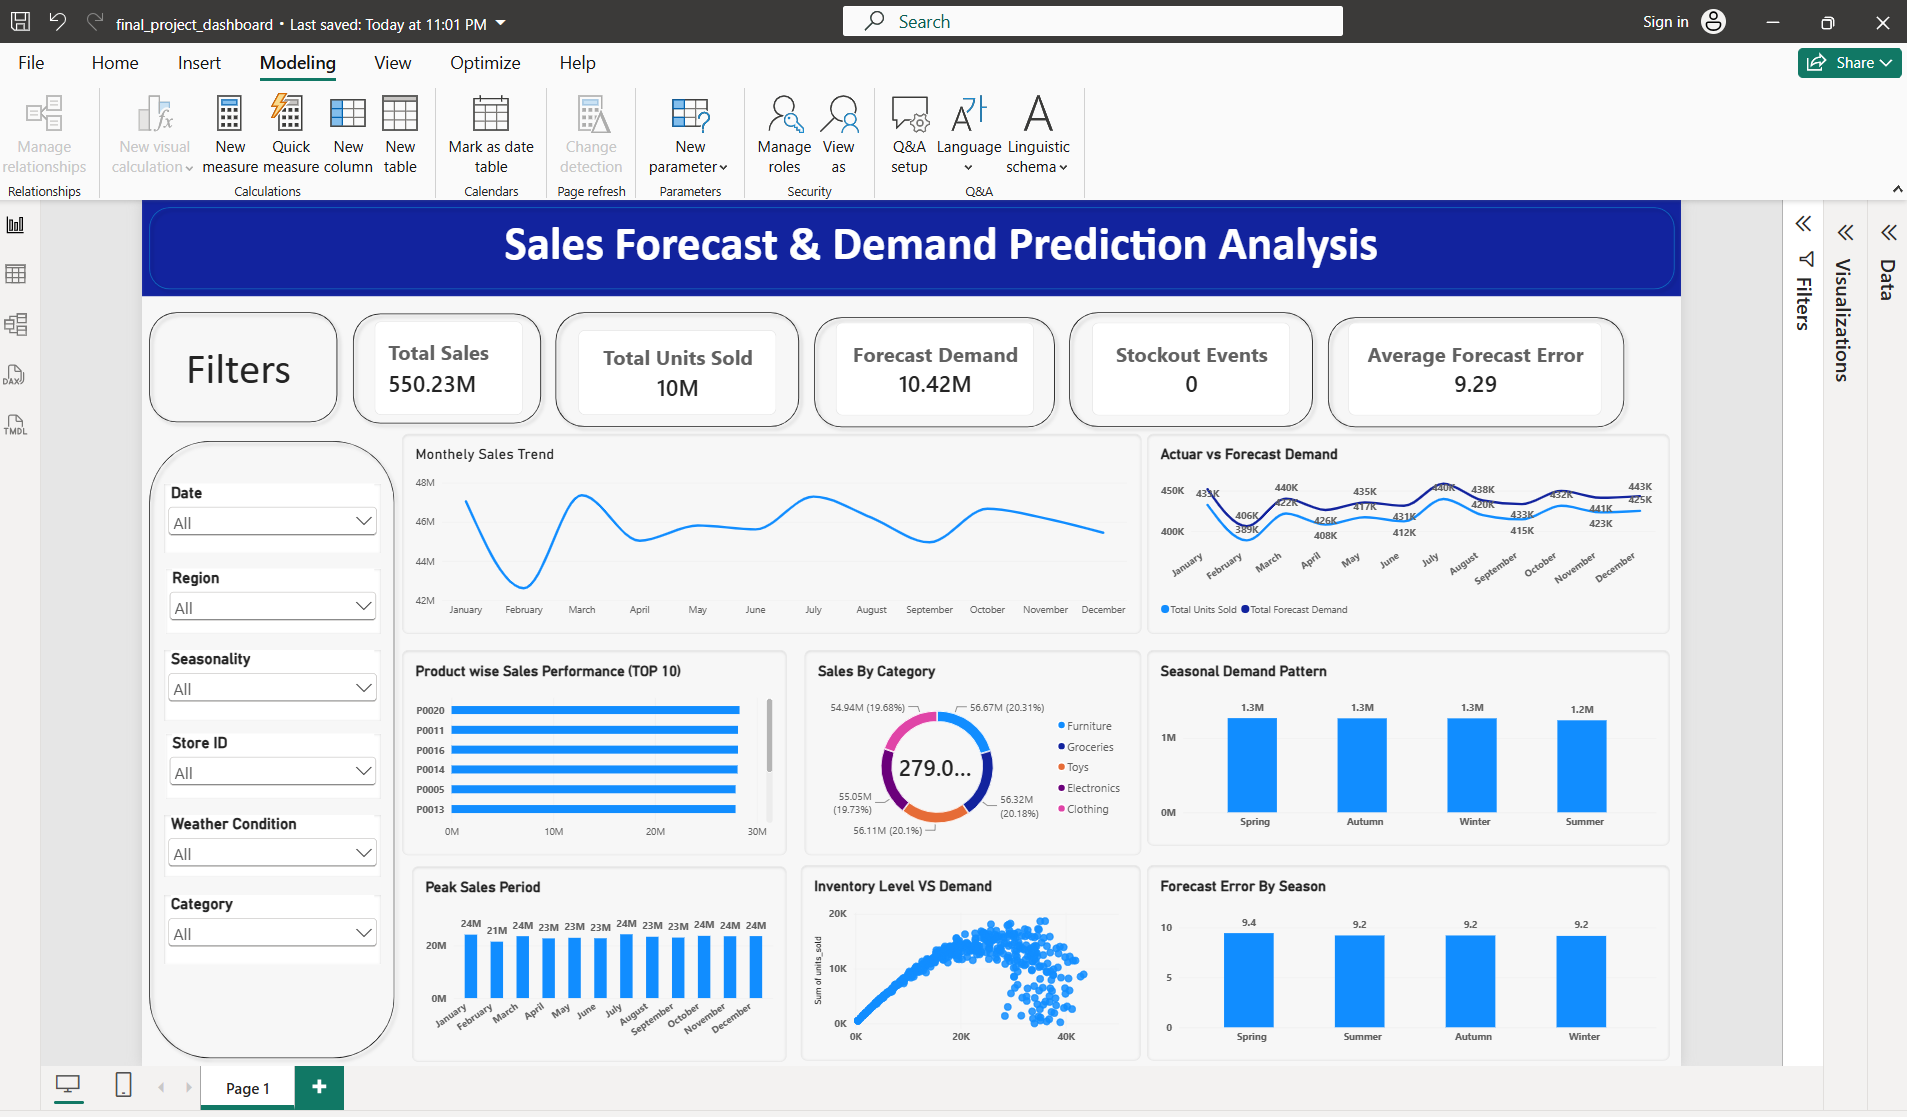

This screenshot's page, from the dashboard's own definition file:
{"tool":"powerbi","page":{"name":"Page 1","canvas":[1920,1080],"ordinal":0},"visuals":[{"type":"shape","box":[0,0,1920.4,120.3],"z":0},{"type":"textbox","box":[451.7,17.4,1107.6,78.5],"z":1000},{"type":"cardVisual","fields":{"Data":["retail inventory_data.Total Sales"]},"box":[290.1,151.6,185.3,117.9],"z":2000},{"type":"shape","box":[254.6,132.9,252.7,155.4],"z":3000},{"type":"shape","box":[507.2,131,321.9,161],"z":4000},{"type":"shape","box":[829.2,136.6,318.2,155.4],"z":5000},{"type":"shape","box":[1147.4,131,321.9,161],"z":6000},{"type":"shape","box":[1469.3,136.6,387.4,155.4],"z":7000},{"type":"cardVisual","fields":{"Data":["retail inventory_data.Total Units Sold"]},"box":[544.7,162.8,247.1,106.7],"z":8000},{"type":"cardVisual","fields":{"Data":["Sum(retail inventory_data.demand_forecast)"]},"box":[864.7,153.5,247.1,116],"z":9000},{"type":"cardVisual","fields":{"Data":["retail inventory_data.Stockout Events"]},"box":[1184.8,153.5,247.1,116],"z":10000},{"type":"cardVisual","fields":{"Data":["retail inventory_data.Average Forecast Error"]},"box":[1504.9,153.5,316.3,116],"z":11000},{"type":"shape","box":[0,292,323.8,788],"z":12000},{"type":"shape","box":[0,131,252.7,155.4],"z":13000},{"type":"textbox","box":[54.3,177.8,144.1,67.4],"z":14000},{"type":"slicer","fields":{"Values":["retail inventory_data.date"]},"box":[28.1,353.8,269.5,86.1],"z":15000},{"type":"slicer","fields":{"Values":["retail inventory_data.category"]},"box":[28.1,866.6,269.5,86.1],"z":16000},{"type":"slicer","fields":{"Values":["retail inventory_data.region"]},"box":[29.9,460.4,267.7,80.5],"z":17000},{"type":"slicer","fields":{"Values":["retail inventory_data.seasonality"]},"box":[28.1,561.5,269.5,88],"z":18000},{"type":"slicer","fields":{"Values":["retail inventory_data.store_id"]},"box":[29.9,666.3,267.7,80.5],"z":19000},{"type":"slicer","fields":{"Values":["retail inventory_data.weather_condition"]},"box":[28.1,767.4,269.5,76.7],"z":20000},{"type":"lineChart","title":"Monthely Sales Trend","fields":{"Category":["retail inventory_data.date.Variation.Date Hierarchy.Month"],"Y":["retail inventory_data.Total Sales"]},"box":[324.4,291.3,922.7,249.4],"z":21000},{"type":"clusteredBarChart","title":"Product wise Sales Performance (TOP 10)","fields":{"Category":["retail inventory_data.product_id"],"Y":["retail inventory_data.Total Sales"]},"box":[324.4,561.6,479.7,256.4],"z":22000},{"type":"donutChart","title":"Sales By Category","fields":{"Y":["retail inventory_data.Total Sales"],"Category":["retail inventory_data.category"]},"box":[826.7,561.6,420.4,256.4],"z":23000},{"type":"clusteredColumnChart","title":"Seasonal Demand Pattern","fields":{"Category":["retail inventory_data.seasonality"],"Y":["retail inventory_data.Total Units Sold"]},"box":[1254.1,561.6,652.3,244.2],"z":24000},{"type":"columnChart","title":"Peak Sales Period","fields":{"Category":["retail inventory_data.date.Variation.Date Hierarchy.Month"],"Y":["retail inventory_data.Total Sales"]},"box":[336.6,830.2,467.4,244.2],"z":25000},{"type":"lineChart","title":"Actuar vs Forecast Demand","fields":{"Y":["retail inventory_data.Total Units Sold","retail inventory_data.Total Forecast Demand"],"Category":["retail inventory_data.date.Variation.Date Hierarchy.Month"]},"box":[1253.4,291.5,651.6,249.4],"z":26000},{"type":"scatterChart","title":"Inventory Level VS Demand","fields":{"X":["Sum(retail inventory_data.inventory_level)"],"Y":["Sum(retail inventory_data.units_sold)"],"Category":["retail inventory_data.units_sold"]},"box":[822.2,829.7,424.2,244],"z":27000},{"type":"clusteredColumnChart","title":"Forecast Error By Season","fields":{"Category":["retail inventory_data.seasonality"],"Y":["retail inventory_data.Average Forecast Error"]},"box":[1254,829.7,652.3,244.2],"z":28000}]}

Visuals, with their boxes on the page's 1920x1080 design canvas (x1, y1, x2, y2). These are canvas units, not pixel positions in the 1907x1117 screenshot, which may show the page scaled, cropped or inside an application window:
shape: crop(0, 0, 1920, 120)
textbox: crop(452, 17, 1559, 96)
cardVisual - retail inventory_data.Total Sales: crop(290, 152, 475, 270)
shape: crop(255, 133, 507, 288)
shape: crop(507, 131, 829, 292)
shape: crop(829, 137, 1147, 292)
shape: crop(1147, 131, 1469, 292)
shape: crop(1469, 137, 1857, 292)
cardVisual - retail inventory_data.Total Units Sold: crop(545, 163, 792, 270)
cardVisual - Sum(retail inventory_data.demand_forecast): crop(865, 154, 1112, 270)
cardVisual - retail inventory_data.Stockout Events: crop(1185, 154, 1432, 270)
cardVisual - retail inventory_data.Average Forecast Error: crop(1505, 154, 1821, 270)
shape: crop(0, 292, 324, 1080)
shape: crop(0, 131, 253, 286)
textbox: crop(54, 178, 198, 245)
slicer - retail inventory_data.date: crop(28, 354, 298, 440)
slicer - retail inventory_data.category: crop(28, 867, 298, 953)
slicer - retail inventory_data.region: crop(30, 460, 298, 541)
slicer - retail inventory_data.seasonality: crop(28, 562, 298, 650)
slicer - retail inventory_data.store_id: crop(30, 666, 298, 747)
slicer - retail inventory_data.weather_condition: crop(28, 767, 298, 844)
"Monthely Sales Trend" lineChart: crop(324, 291, 1247, 541)
"Product wise Sales Performance (TOP 10)" clusteredBarChart: crop(324, 562, 804, 818)
"Sales By Category" donutChart: crop(827, 562, 1247, 818)
"Seasonal Demand Pattern" clusteredColumnChart: crop(1254, 562, 1906, 806)
"Peak Sales Period" columnChart: crop(337, 830, 804, 1074)
"Actuar vs Forecast Demand" lineChart: crop(1253, 292, 1905, 541)
"Inventory Level VS Demand" scatterChart: crop(822, 830, 1246, 1074)
"Forecast Error By Season" clusteredColumnChart: crop(1254, 830, 1906, 1074)
